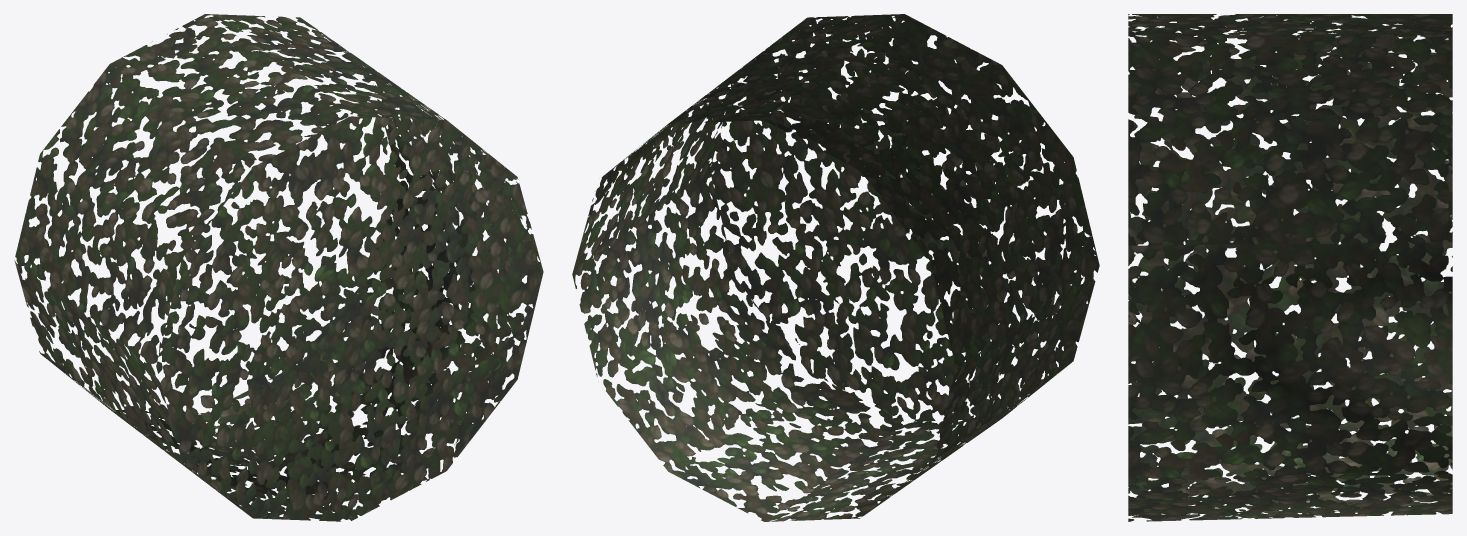
Rendered from nt_2020_foliage_hedge_sphere_LOD3.obj.
3 renders of one model, left to right at view 1: azimuth 30°, elevation 25°; view 2: azimuth 150°, elevation 25°; view 3: azimuth 270°, elevation 25°, orthographic. The views are drawn at different scales.
Parts seen in each view (by area): view 1: mtl_p6_foliage_hedge_no_alpha; view 2: mtl_p6_foliage_hedge_no_alpha; view 3: mtl_p6_foliage_hedge_no_alpha.
Boxes of the visible parts, box(x1,y1,x2,y2) form: mtl_p6_foliage_hedge_no_alpha: box(14, 14, 543, 521); mtl_p6_foliage_hedge_no_alpha: box(572, 14, 1099, 521); mtl_p6_foliage_hedge_no_alpha: box(1128, 14, 1452, 521).
Bounding box in the file's own units: 127 × 127 × 80.51.
